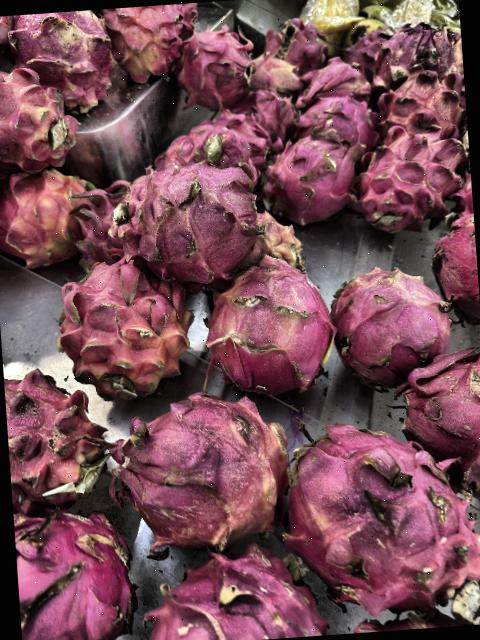buah-naga-belum-matang: (112, 390, 286, 536), (324, 253, 459, 388), (54, 256, 188, 389), (210, 265, 339, 388), (7, 9, 118, 113), (13, 375, 98, 499), (0, 61, 89, 171), (2, 168, 96, 254), (365, 63, 458, 144), (110, 3, 197, 80), (244, 211, 309, 268), (255, 52, 301, 92)
buah-naga-matang: (272, 395, 480, 606), (136, 528, 342, 640), (13, 501, 144, 640), (132, 164, 262, 266), (401, 351, 480, 503), (367, 123, 458, 230), (271, 132, 355, 212), (156, 122, 248, 176), (296, 92, 379, 151), (259, 11, 340, 70), (378, 18, 463, 74), (438, 221, 480, 328), (182, 30, 246, 90)
